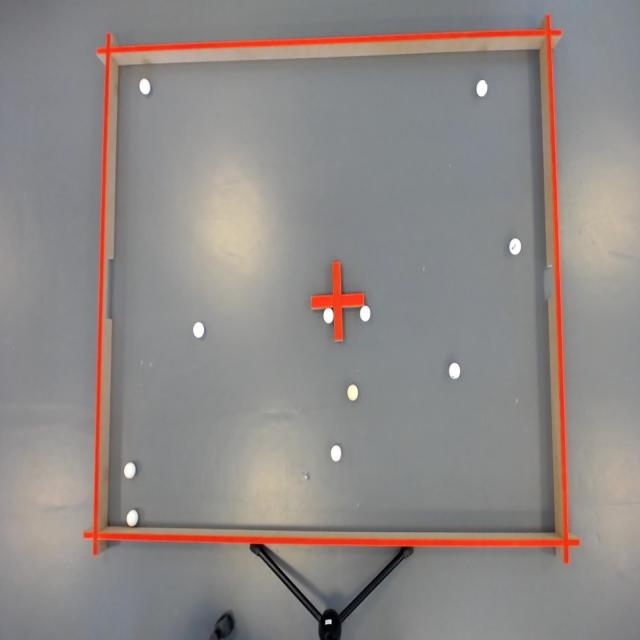big-goal: (104, 257, 115, 320)
obstacle: (91, 31, 572, 555), (105, 48, 558, 532), (311, 262, 364, 342)
small-goal: (542, 266, 557, 307)
white-golf-balls: (345, 381, 362, 406), (507, 235, 523, 258), (448, 361, 464, 383), (191, 319, 206, 340), (475, 76, 488, 100), (122, 460, 137, 480), (126, 507, 140, 528), (138, 74, 150, 98), (329, 444, 344, 463), (359, 304, 372, 325), (323, 307, 335, 326)
